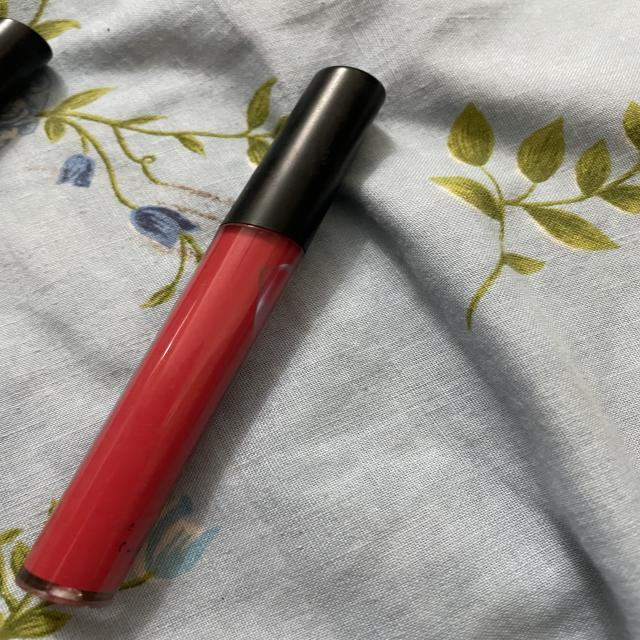lip gloss: (0, 58, 405, 605)
